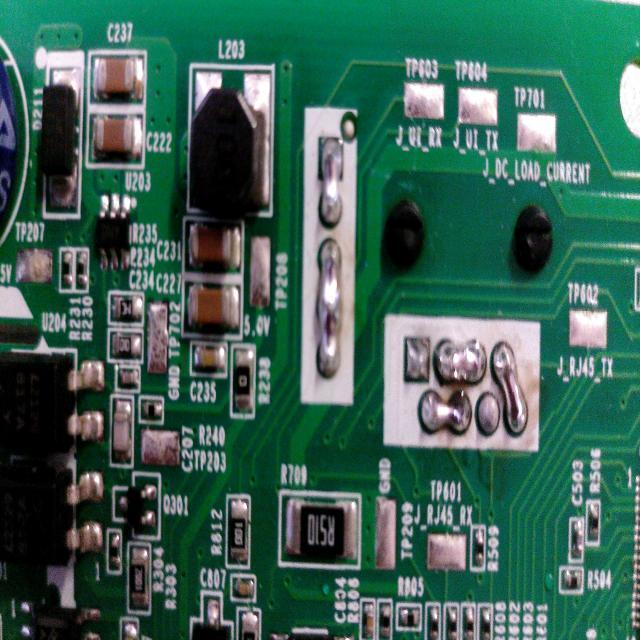Soldering shorted: (491, 332, 535, 438), (316, 235, 342, 387), (413, 386, 474, 446), (434, 338, 487, 390), (319, 136, 343, 227)
